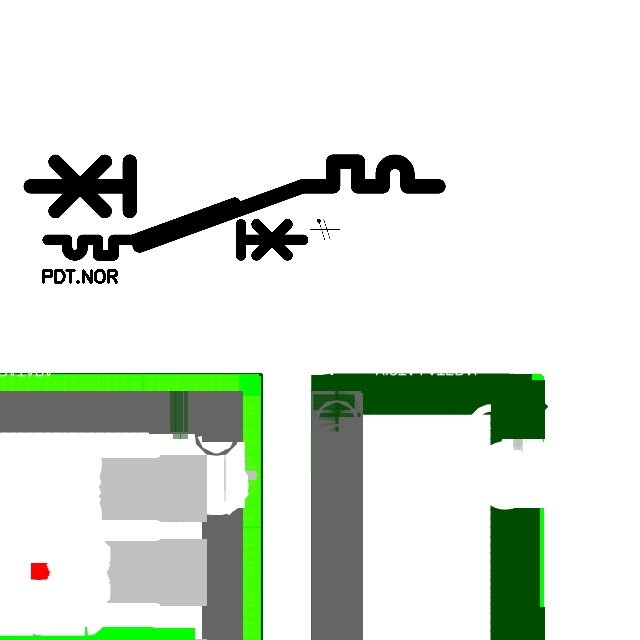interruptor_termomagnetico: (20, 151, 449, 256), (41, 196, 310, 262)
